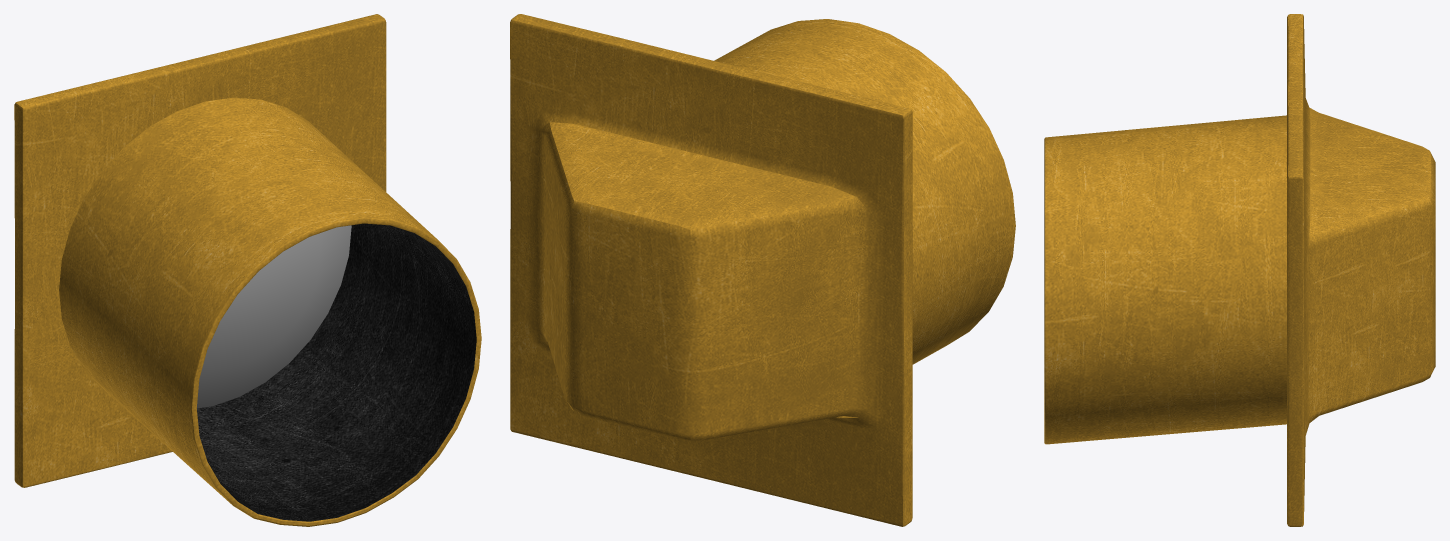
The model's file is TrafficSignalVerticalFullConeOrange1.fbx.
3 renders of one model, left to right at view 1: azimuth 30°, elevation 25°; view 2: azimuth 150°, elevation 25°; view 3: azimuth 270°, elevation 25°, orthographic. The views are drawn at different scales.
Visible parts, largest first — view 1: Casing, SignalLight0; view 2: Casing; view 3: Casing.
Boxes of the visible parts, box(x1,y1,x2,y2) form: Casing: box(14, 14, 481, 526); SignalLight0: box(196, 225, 351, 408); Casing: box(510, 14, 1015, 526); Casing: box(1044, 14, 1435, 526).
Bounding box in the file's own units: 0.4654 × 0.4654 × 0.4694.
